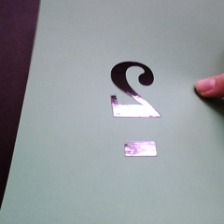green2: (100, 54, 169, 162)
